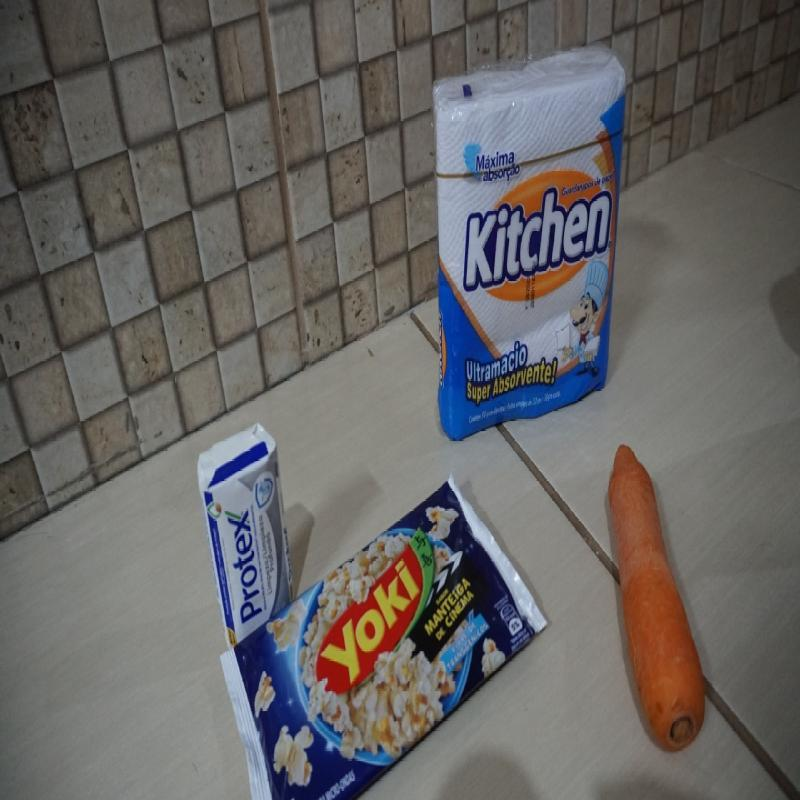Carrot: (607, 440, 707, 754)
Napkin: (431, 38, 626, 444)
Popcorn: (218, 473, 549, 800)
Soap: (195, 422, 296, 648)
